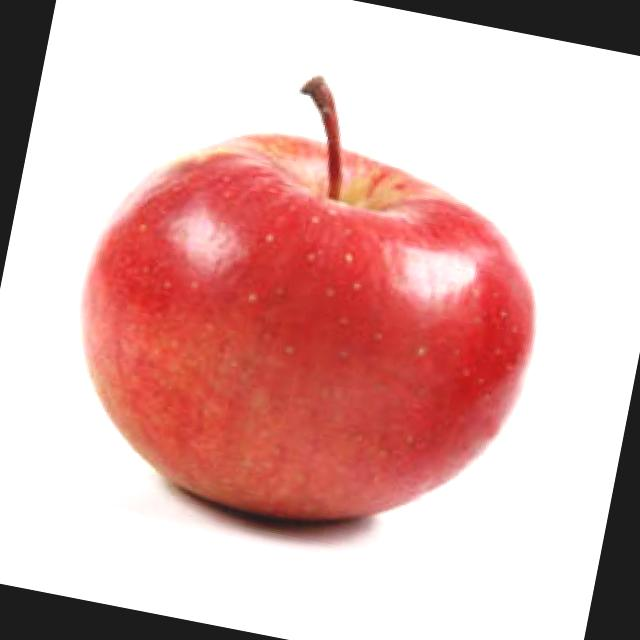apple: (41, 102, 566, 578)
